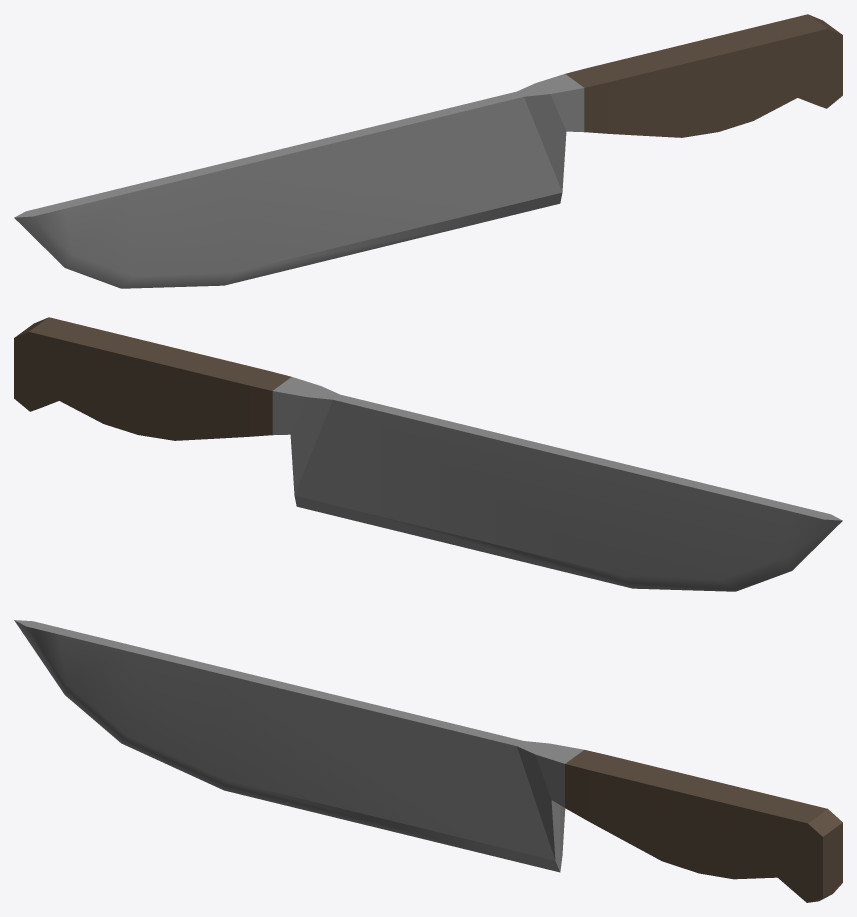
File: kitchenKnife.fbx
3 views of the same model, one above another, from view 1: azimuth 30°, elevation 25°; view 2: azimuth 150°, elevation 25°; view 3: azimuth 330°, elevation 25° (orthographic).
Parts seen in each view (by area): view 1: geo_kitchenKnife; view 2: geo_kitchenKnife; view 3: geo_kitchenKnife.
Boxes of the visible parts, left/top/right/bottom form: geo_kitchenKnife: left=14, top=14, right=842, bottom=288; geo_kitchenKnife: left=14, top=317, right=842, bottom=591; geo_kitchenKnife: left=14, top=620, right=842, bottom=902.
Bounding box in the file's own units: 0.4325 × 0.0602 × 0.0183.
